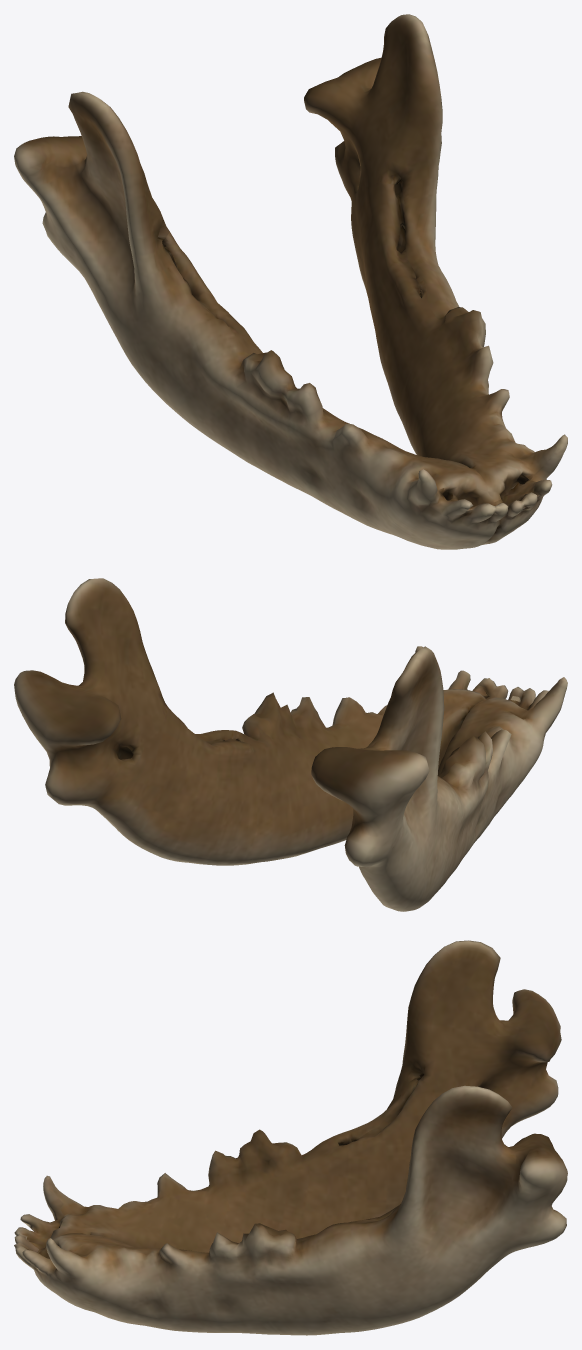
Rendered from Mandible.glb.
3 renders of one model, top to bottom at view 1: azimuth 30°, elevation 25°; view 2: azimuth 150°, elevation 25°; view 3: azimuth 270°, elevation 25°, orthographic. The views are drawn at different scales.
Visible parts, largest first — view 1: Mandible1:Group49655; view 2: Mandible1:Group49655; view 3: Mandible1:Group49655.
Boxes of the visible parts, box(x1,y1,x2,y2) form: Mandible1:Group49655: box(14, 14, 567, 549); Mandible1:Group49655: box(14, 578, 567, 911); Mandible1:Group49655: box(14, 940, 567, 1335).
Bounding box in the file's own units: 83.49 × 68.59 × 113.
1 material, 1 textured.
